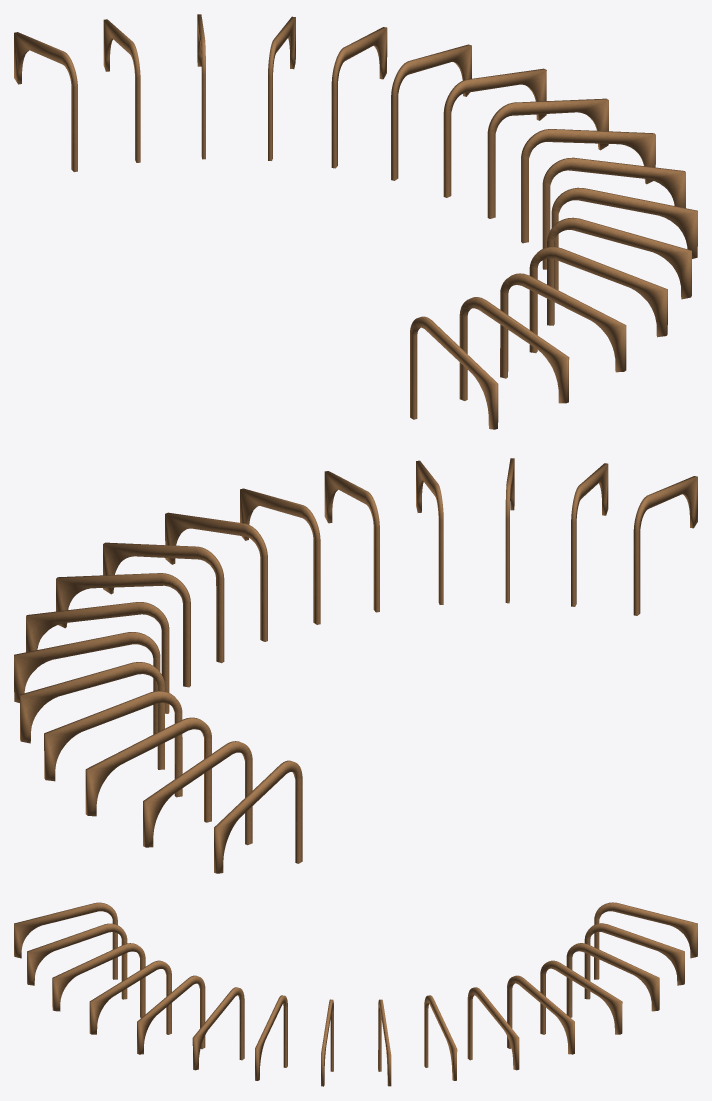
Rendered from mesh_com_bs_upperbeams.glb.
3 views of the same model, one above another, from view 1: azimuth 30°, elevation 25°; view 2: azimuth 150°, elevation 25°; view 3: azimuth 270°, elevation 25° (orthographic). The views are drawn at different scales.
Parts seen in each view (by area): view 1: mesh_com_bs_upperbeams; view 2: mesh_com_bs_upperbeams; view 3: mesh_com_bs_upperbeams.
Part boxes in pixels (<box>): mesh_com_bs_upperbeams: <box>14,14,697,429</box>; mesh_com_bs_upperbeams: <box>14,458,697,873</box>; mesh_com_bs_upperbeams: <box>14,902,697,1086</box>.
Size of the model in its own units: 23.88 by 6.31 by 51.02.
Materials: 1 (1 with a texture image).
